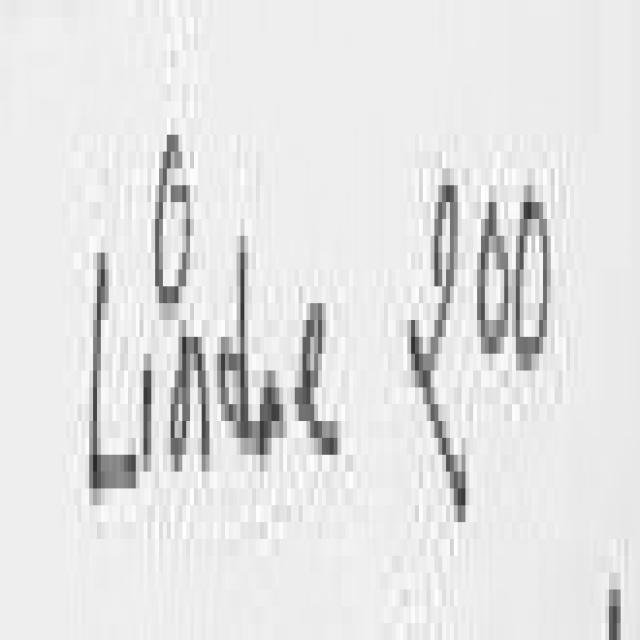0: (520, 202, 551, 362), (481, 202, 512, 354)
2: (411, 185, 469, 522)
L: (93, 253, 136, 480)
a: (260, 371, 291, 455)
d: (221, 236, 252, 438)
e: (304, 303, 341, 455)
i: (155, 135, 194, 320), (144, 354, 155, 463)
n: (171, 337, 209, 472)
